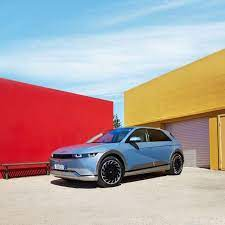Honda Ioniq: (48, 124, 187, 193)
